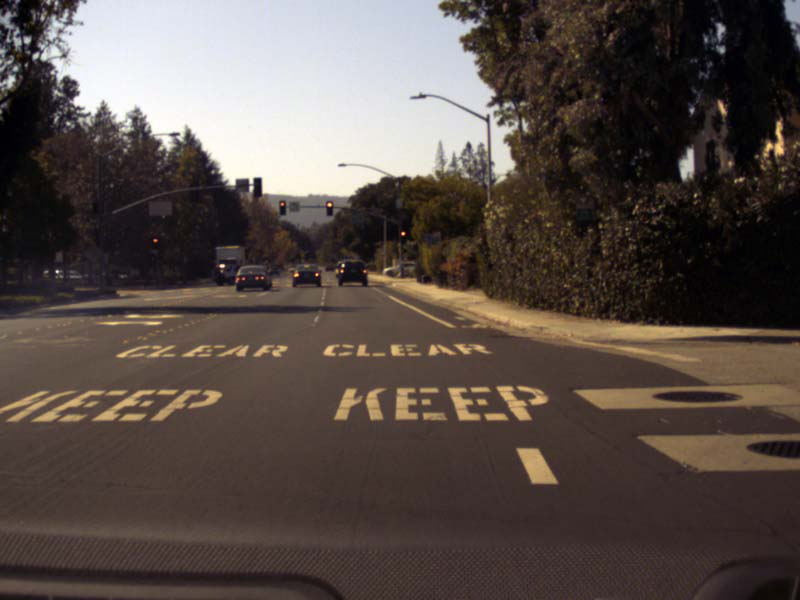Red: (326, 201, 332, 214), (279, 201, 285, 213), (152, 236, 159, 245), (400, 228, 406, 238)
